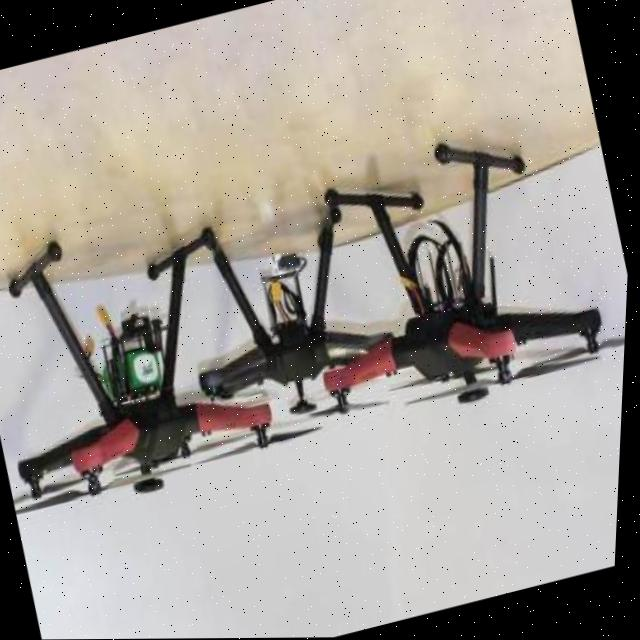drones: (0, 58, 638, 571)
